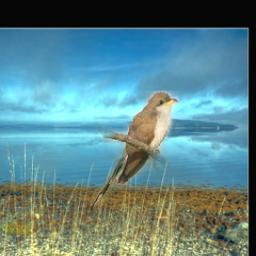Cuckoo: (90, 92, 178, 211)
